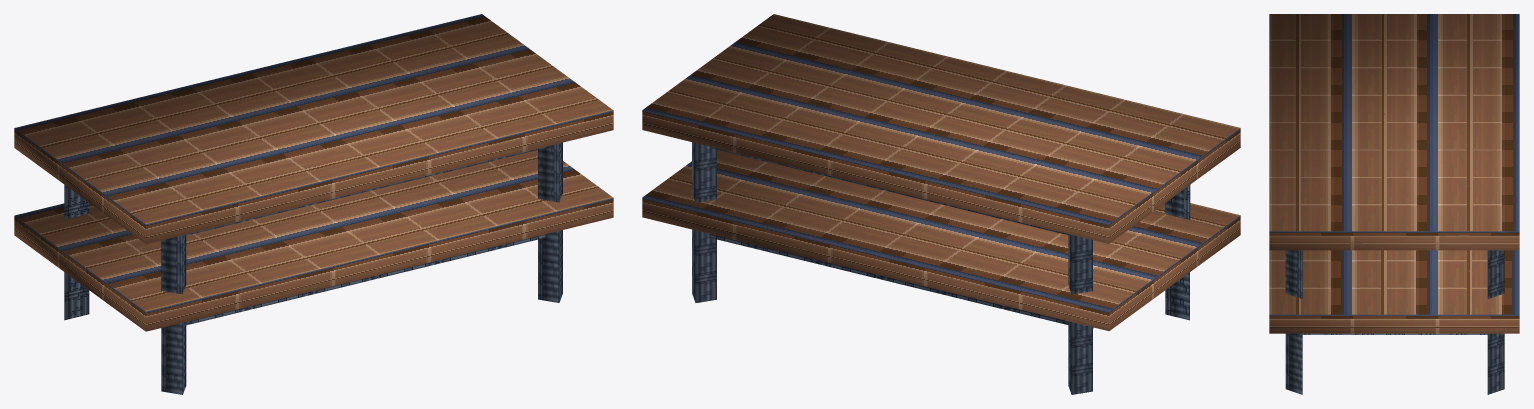
Rendered from 3409IMIG20_08.gltf.
The picture shows the model from 3 angles, left to right: view 1: azimuth 30°, elevation 25°; view 2: azimuth 150°, elevation 25°; view 3: azimuth 270°, elevation 25°; orthographic projection. The views are drawn at different scales.
Parts seen in each view (by area): view 1: 3409IMIG20_08; view 2: 3409IMIG20_08; view 3: 3409IMIG20_08.
Part boxes in pixels (x1,y1,x2,y2): 3409IMIG20_08: (14,14,613,394); 3409IMIG20_08: (642,14,1240,394); 3409IMIG20_08: (1269,14,1519,394).
Bounding box in the file's own units: 1.95 × 0.7495 × 0.9502.
2 materials, 2 textured.
